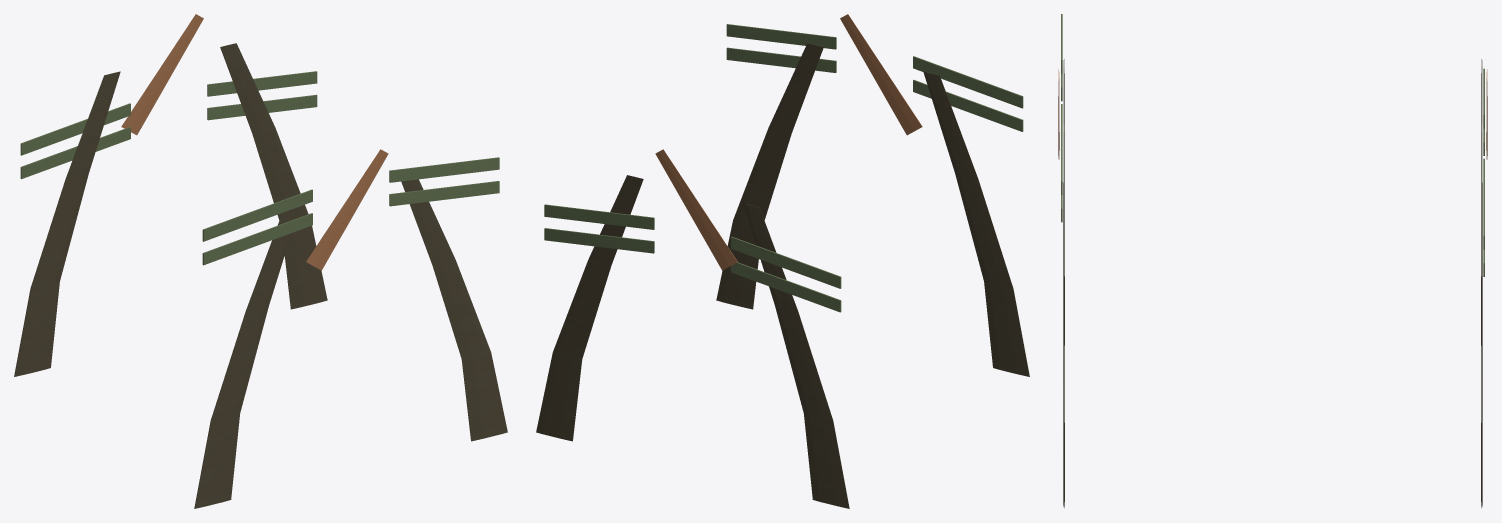
The model's file is rootfall-canopy-relay-1.glb.
The picture shows the model from 3 angles, left to right: view 1: azimuth 30°, elevation 25°; view 2: azimuth 150°, elevation 25°; view 3: azimuth 270°, elevation 25°; orthographic projection. The views are drawn at different scales.
Parts seen in each view (by area): view 1: rootfall-canopy-relay_LOD1; view 2: rootfall-canopy-relay_LOD1; view 3: rootfall-canopy-relay_LOD1.
Boxes of the visible parts, x1,y1,x2,y2 form: rootfall-canopy-relay_LOD1: (14,14,507,508); rootfall-canopy-relay_LOD1: (536,14,1029,508); rootfall-canopy-relay_LOD1: (1058,14,1487,508).
Bounding box in the file's own units: 0.9741 × 0.9394 × 0.997.
Materials: 3 (3 with a texture image).
